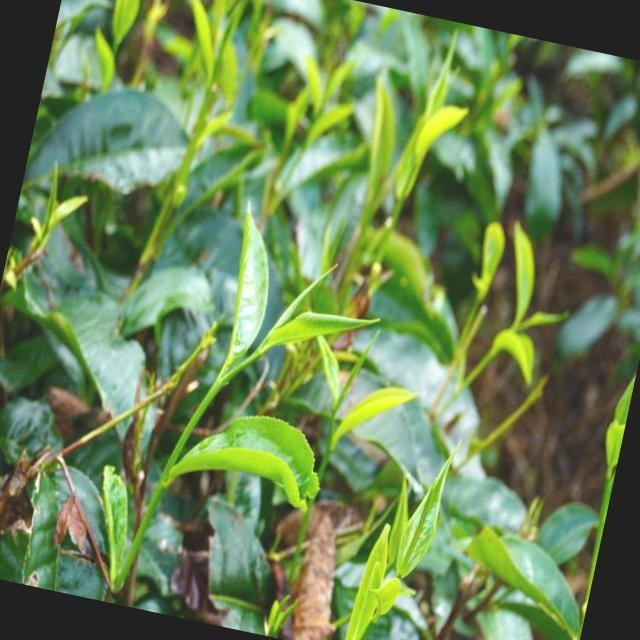Stem: (250, 349, 261, 361), (331, 410, 338, 416)
